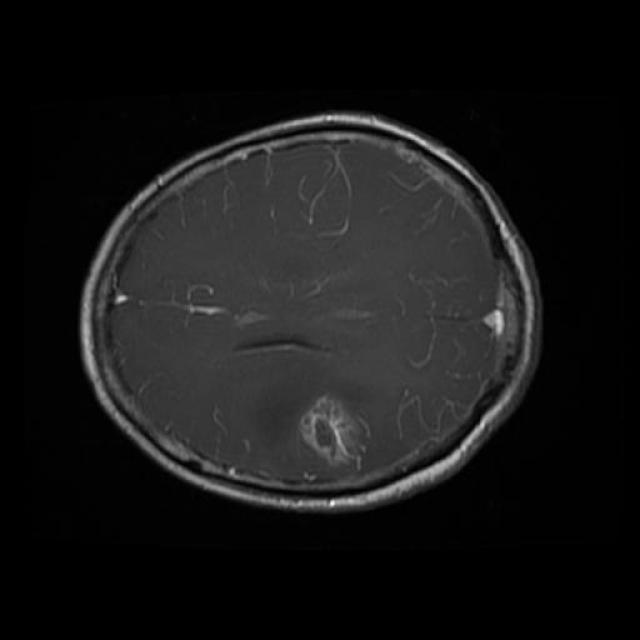Glioma: (298, 395, 362, 467)
